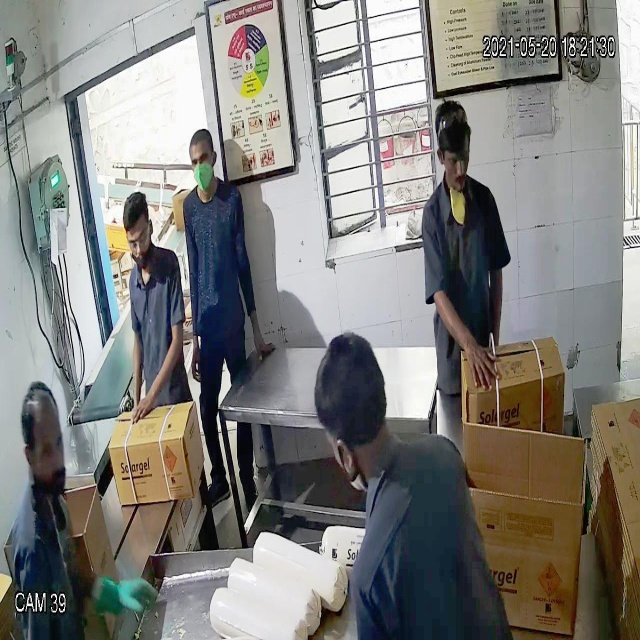Gafas: (119, 225, 154, 254)
Sin_gafas: (24, 432, 67, 466), (430, 140, 473, 172), (188, 148, 214, 170)
